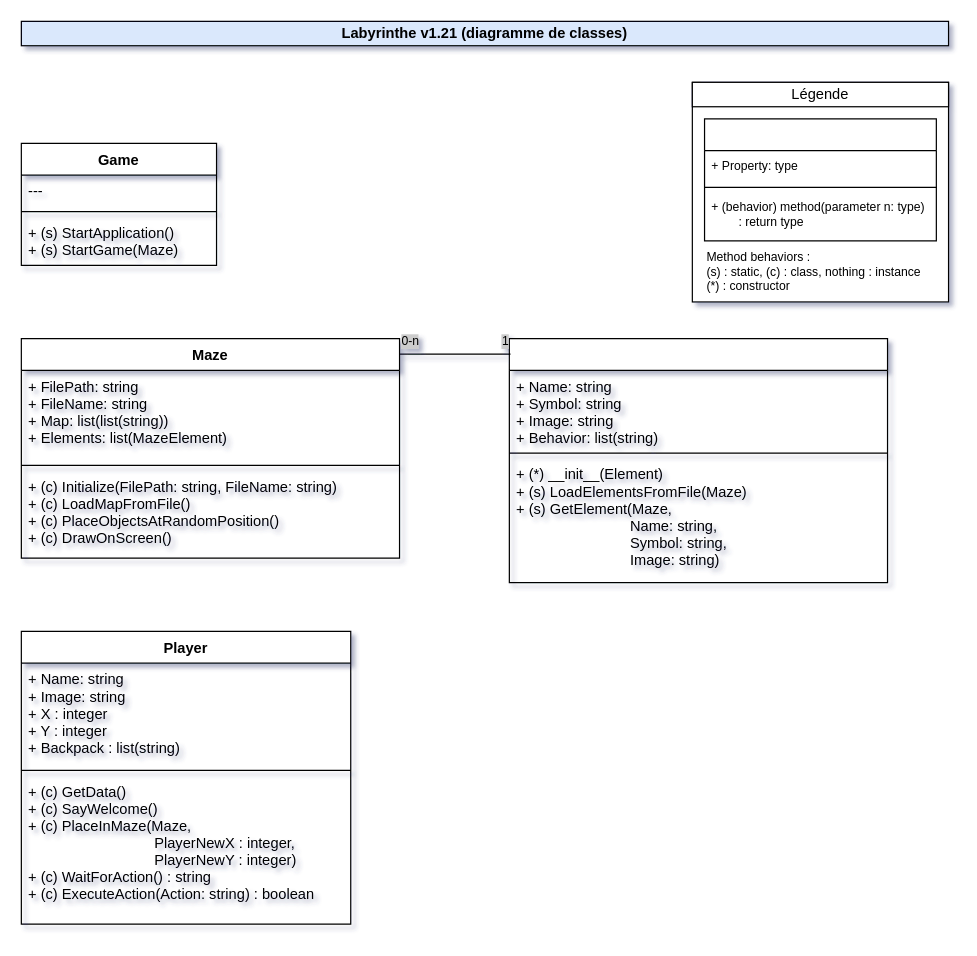
The diagram is 977 pixels wide and 956 high, and some of its shapes have lost their labels. Each missing label, with the box of its shape:
Classname: (703, 118, 936, 241)
MazeElement: (508, 337, 888, 583)
